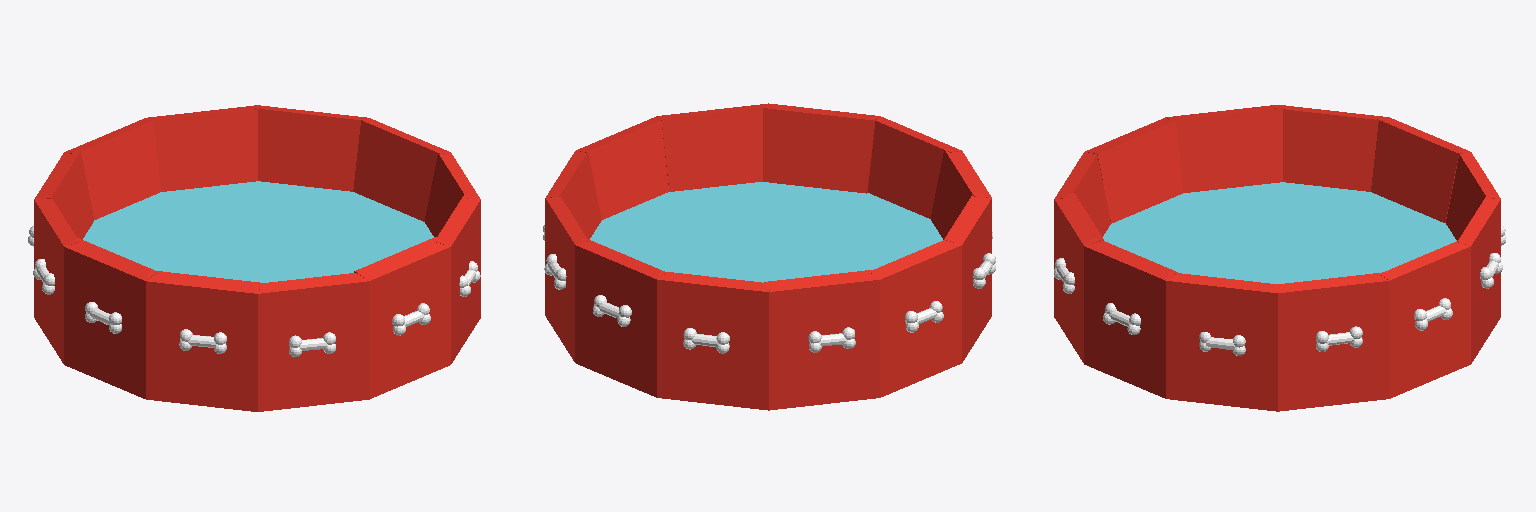
File: water_bowl.obj
The picture shows the model from 3 angles: view 1: azimuth 30°, elevation 25°; view 2: azimuth 150°, elevation 25°; view 3: azimuth 270°, elevation 25°; orthographic projection.
Parts seen in each view (by area): view 1: water_bowl.001; view 2: water_bowl.001; view 3: water_bowl.001.
Boxes of the visible parts, x1,y1,x2,y2 form: water_bowl.001: [28, 105, 480, 411]; water_bowl.001: [543, 103, 995, 410]; water_bowl.001: [1054, 105, 1505, 411].
Size of the model in its own units: 0.6515 by 0.1963 by 0.6591.